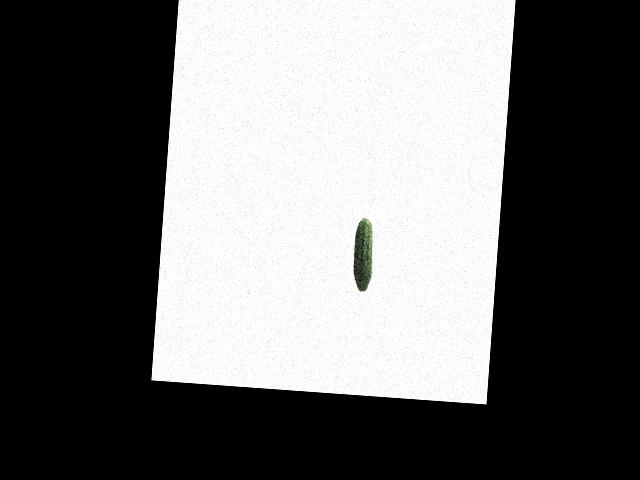cucumber: (351, 217, 375, 292)
